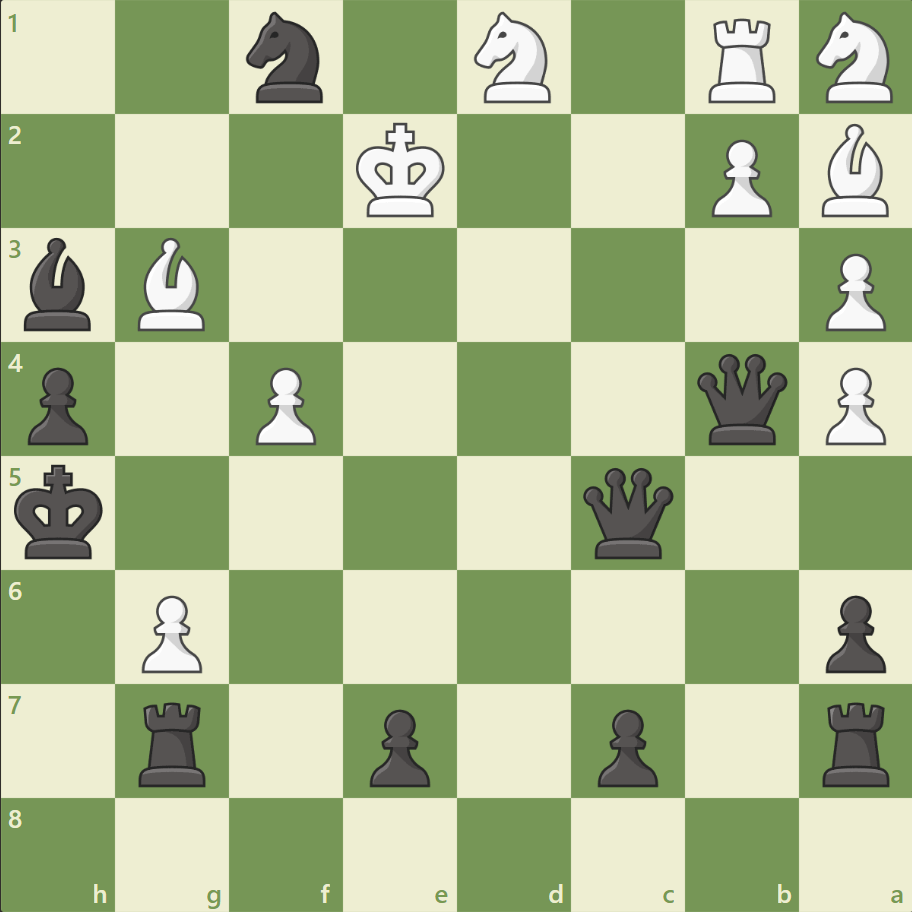B: (131, 233, 215, 336), (812, 120, 896, 222)
K: (351, 117, 451, 225)
N: (806, 7, 903, 110), (465, 7, 562, 110)
P: (133, 586, 208, 677), (247, 359, 322, 450), (701, 132, 776, 223), (815, 359, 889, 450), (815, 246, 889, 337)
R: (700, 12, 783, 109)
b: (17, 233, 101, 336)
k: (11, 458, 111, 566)
n: (238, 7, 335, 110)
p: (20, 359, 95, 450), (588, 700, 662, 791), (361, 700, 435, 791), (815, 586, 889, 677)
q: (691, 349, 790, 449), (578, 463, 677, 562)
r: (814, 693, 897, 790), (133, 693, 215, 790)
